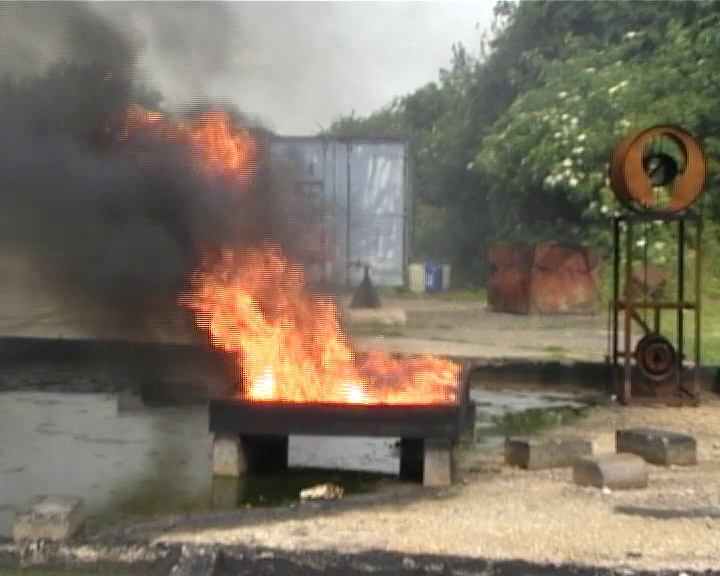fire: (187, 243, 460, 404), (188, 118, 250, 166)
